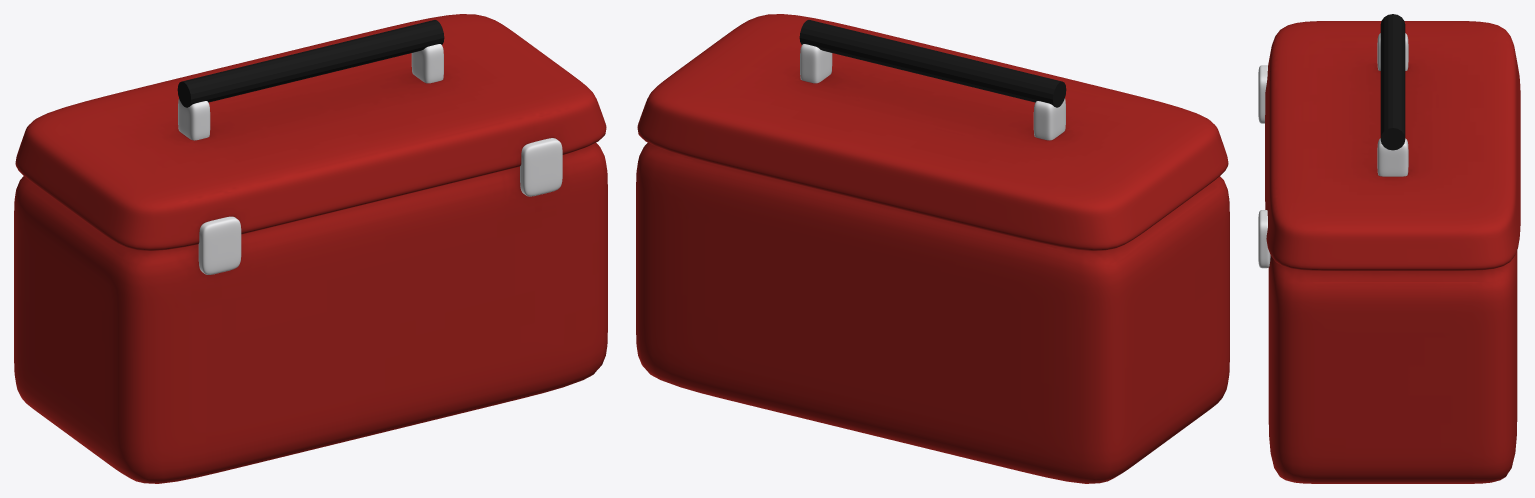
Rendered from red.glb.
3 renders of one model, left to right at view 1: azimuth 30°, elevation 25°; view 2: azimuth 150°, elevation 25°; view 3: azimuth 270°, elevation 25°, orthographic. The views are drawn at different scales.
Parts seen in each view (by area): view 1: paint_primary, grip, chrome_tool; view 2: paint_primary, grip, chrome_tool; view 3: paint_primary, grip, chrome_tool.
Part boxes in pixels (box(x1,y1,x2,y2)): paint_primary: box(14, 14, 607, 483); grip: box(177, 20, 444, 107); chrome_tool: box(178, 44, 562, 274); paint_primary: box(636, 14, 1229, 483); grip: box(799, 20, 1066, 107); chrome_tool: box(800, 44, 1065, 140); paint_primary: box(1265, 21, 1520, 483); grip: box(1380, 14, 1405, 150); chrome_tool: box(1258, 33, 1408, 268).
Size of the model in its own units: 0.503 by 0.337 by 0.2533.
3 materials, 1 textured.
